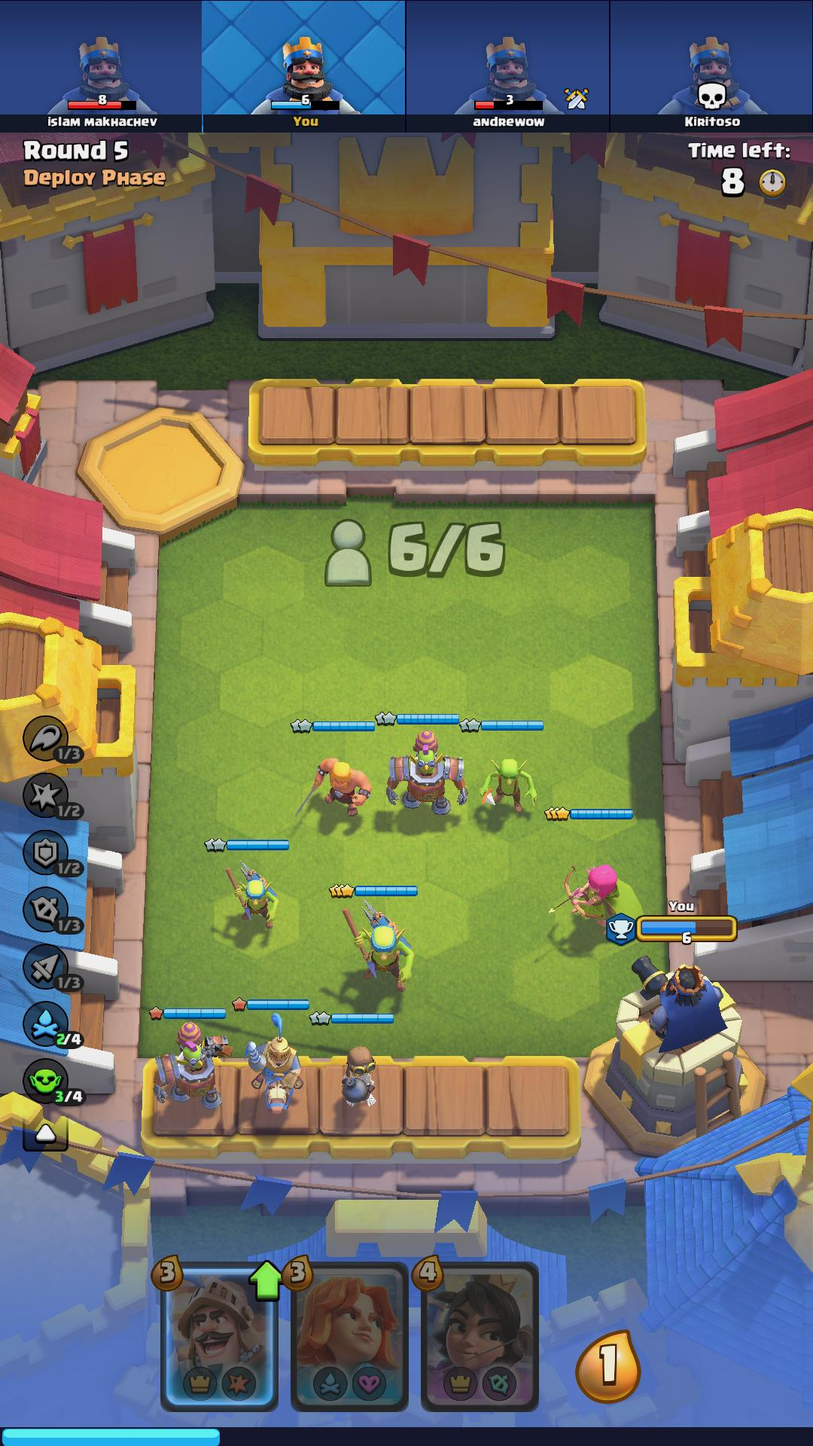archer: (562, 854, 645, 943)
barbarian: (311, 749, 371, 818)
bomber: (331, 1043, 384, 1112)
goblin: (480, 751, 539, 820)
hand-prince: (161, 1263, 275, 1407)
hand-princess: (419, 1265, 537, 1409)
hand-valkyrie: (290, 1263, 409, 1409)
machine: (378, 730, 472, 819), (149, 1019, 232, 1114)
prince: (247, 1019, 309, 1117)
spear: (343, 900, 420, 993), (220, 862, 283, 932)
upgrade: (246, 1256, 287, 1303)
